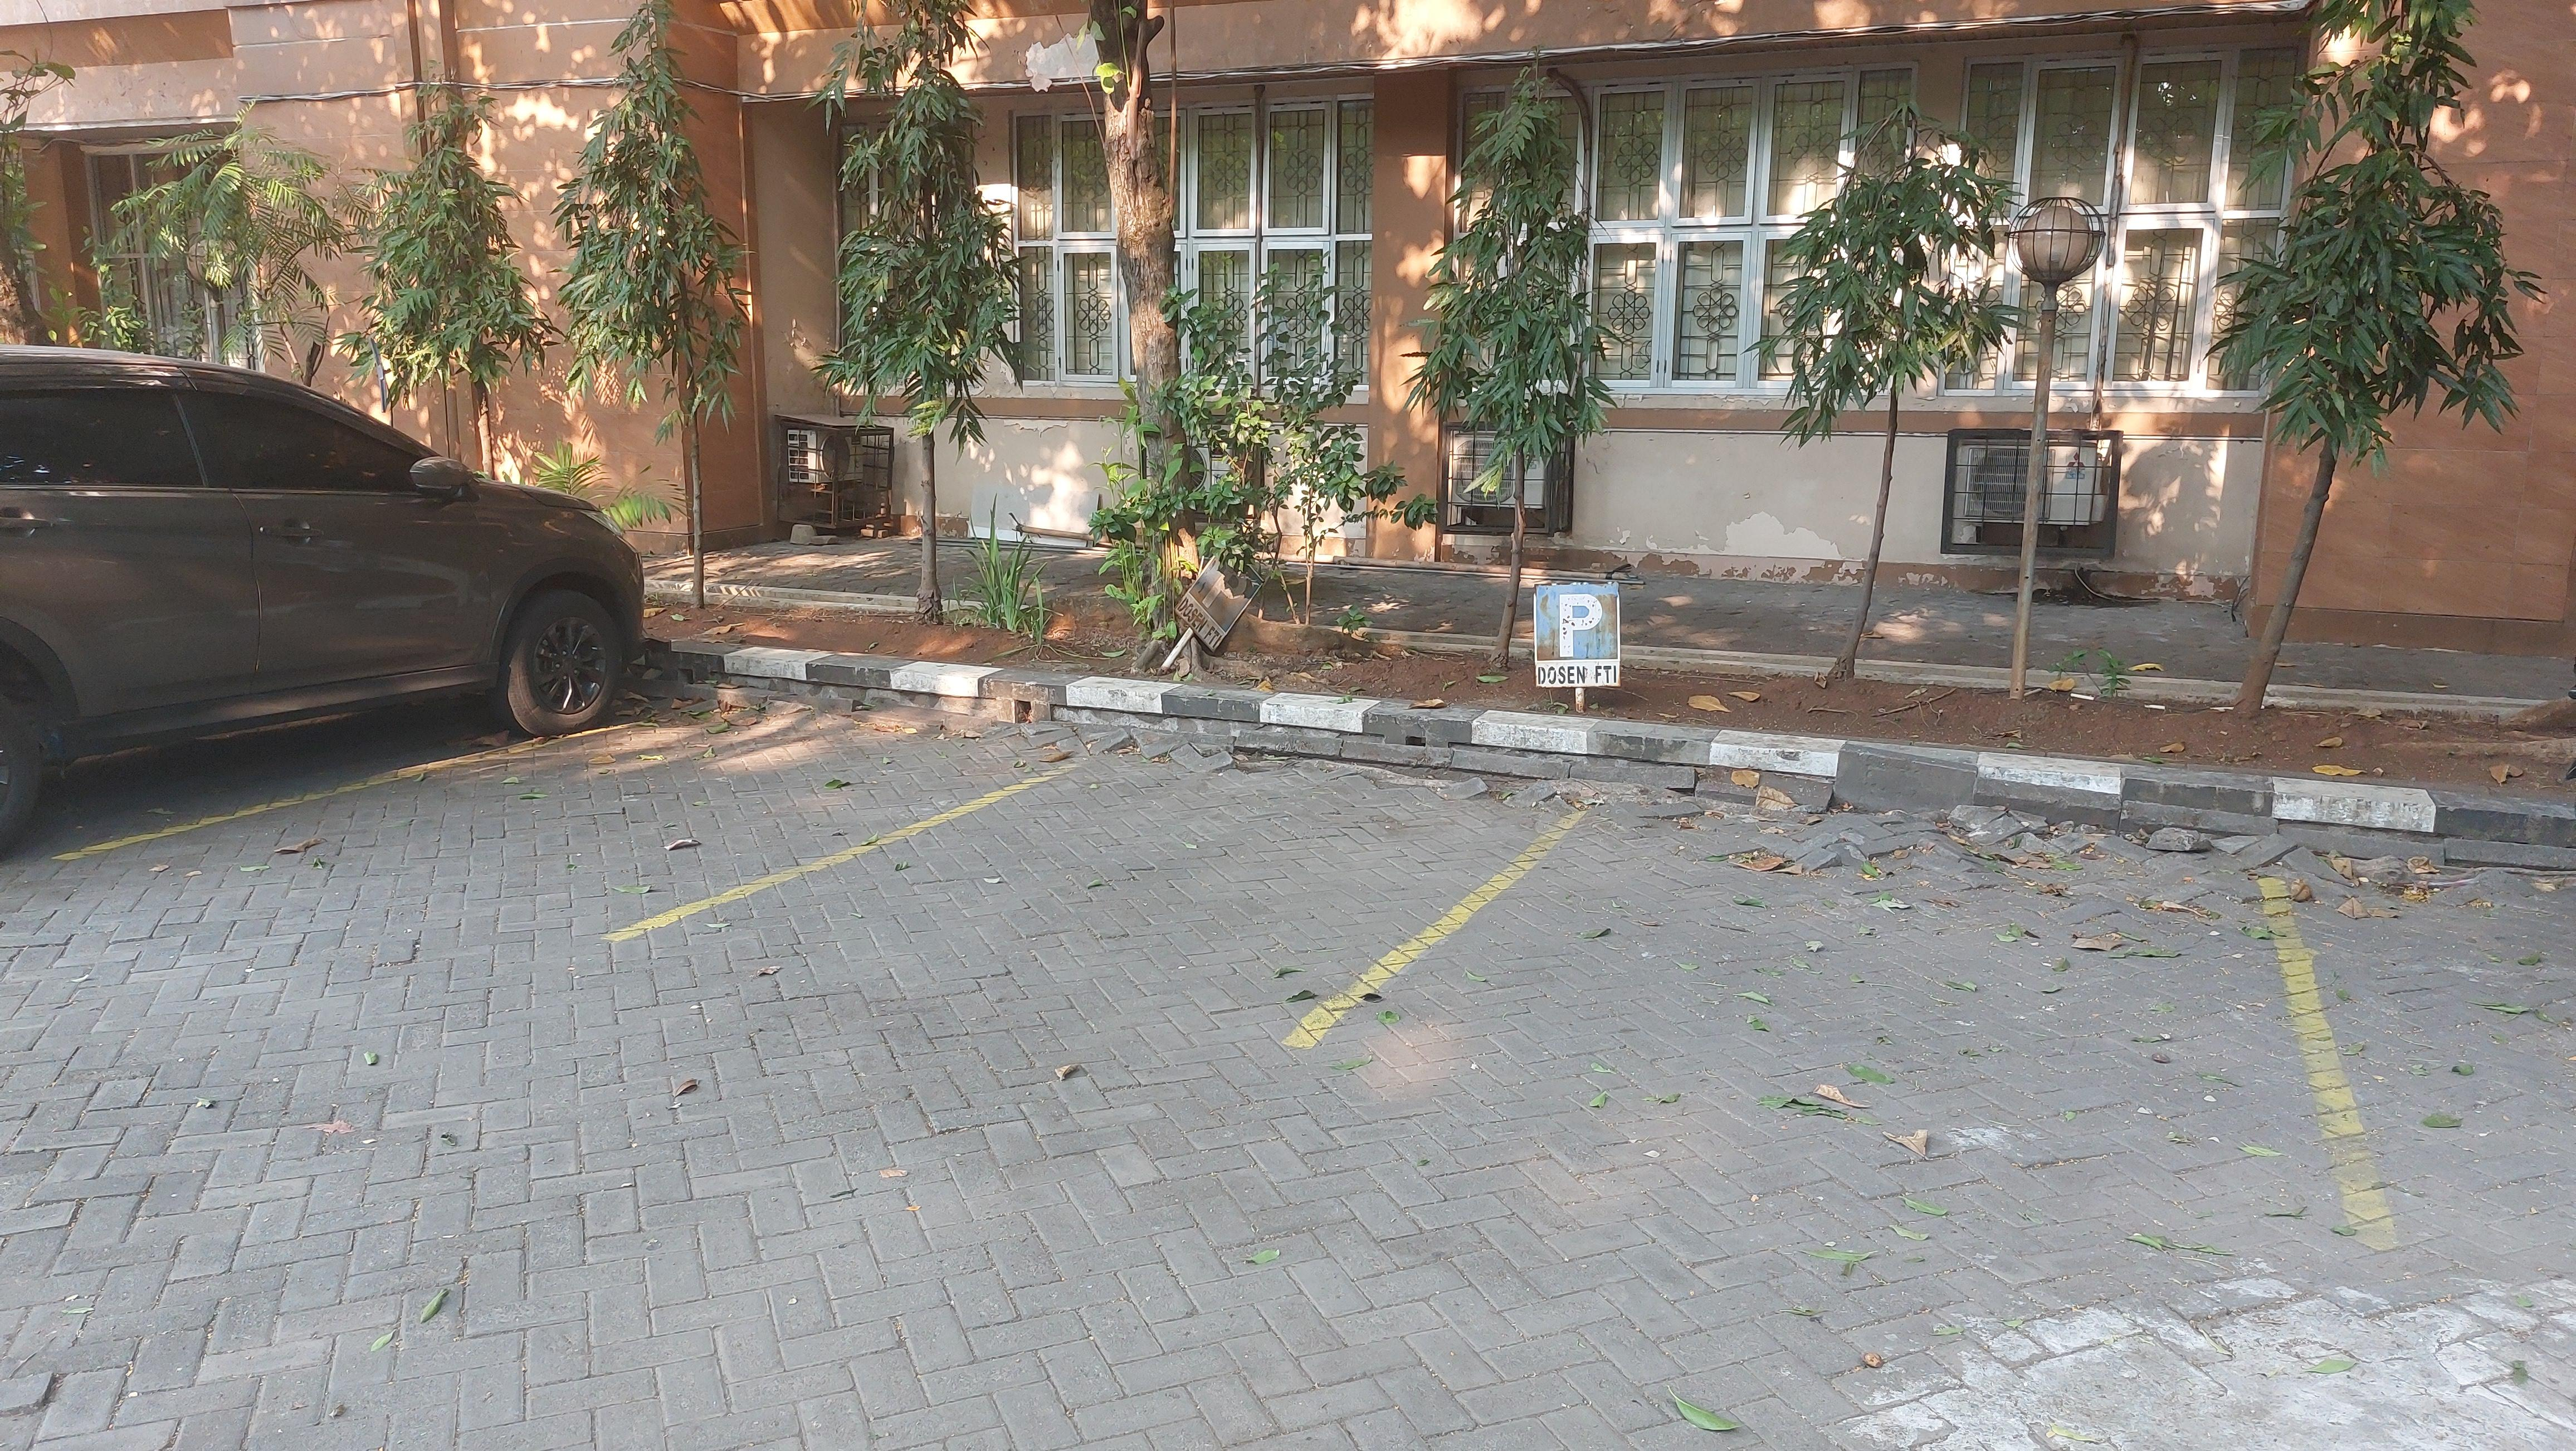empty: (1304, 780, 2378, 1231), (621, 729, 1619, 1046), (66, 687, 1160, 937)
